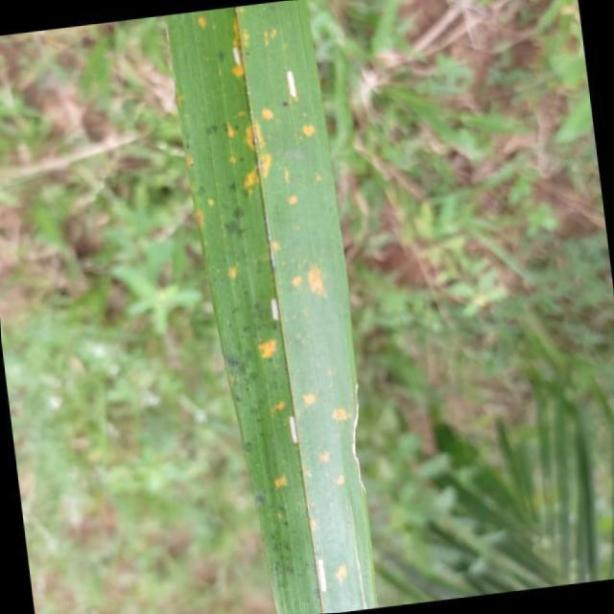Kalium: (164, 3, 380, 614)
